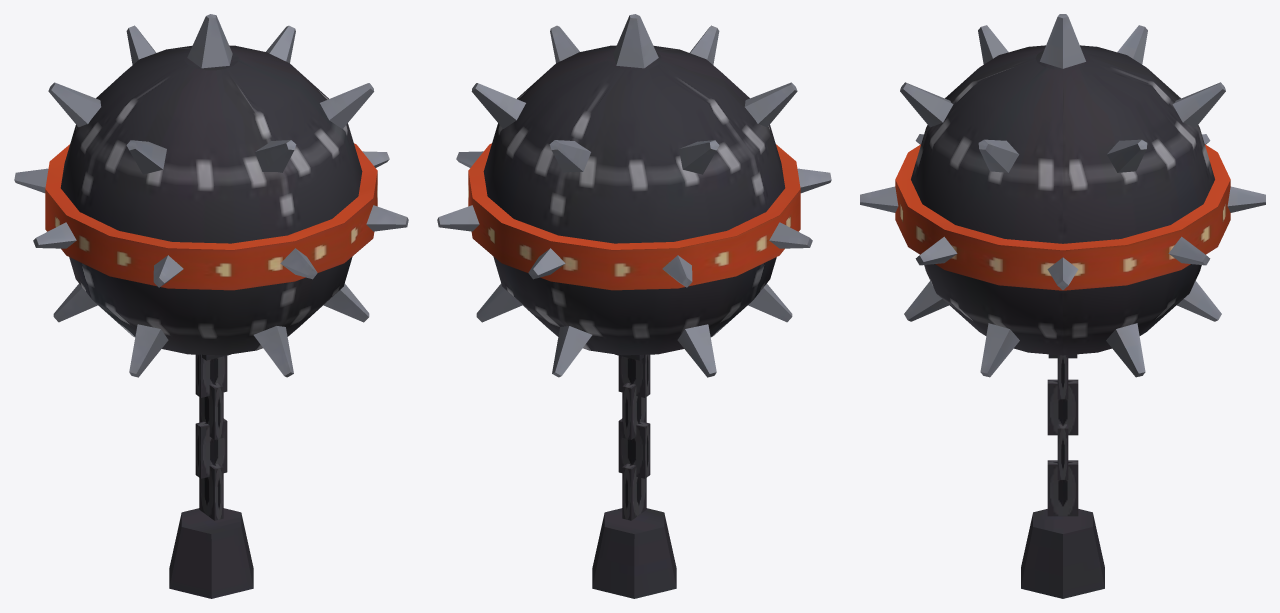
The model's file is sea_mine.glb.
3 renders of one model, left to right at view 1: azimuth 30°, elevation 25°; view 2: azimuth 150°, elevation 25°; view 3: azimuth 270°, elevation 25°, orthographic.
Parts seen in each view (by area): view 1: Mine; view 2: Mine; view 3: Mine.
Part boxes in pixels (bbox=[...]): Mine: bbox=[14, 14, 408, 598]; Mine: bbox=[437, 14, 831, 598]; Mine: bbox=[860, 14, 1265, 598].
Size of the model in its own units: 1 by 1.53 by 1.
2 materials, 2 textured.
